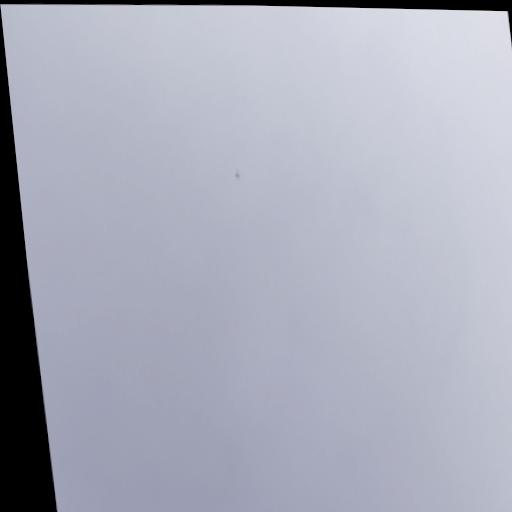drones: (233, 167, 242, 182)
